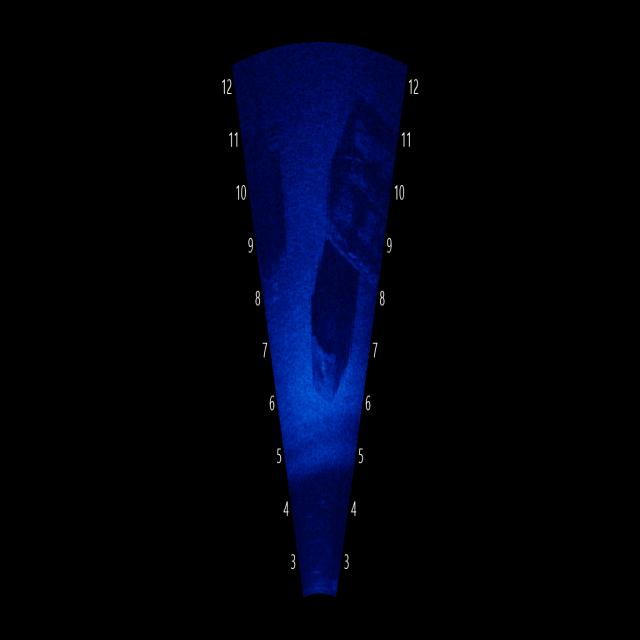square: (300, 255, 358, 435)
